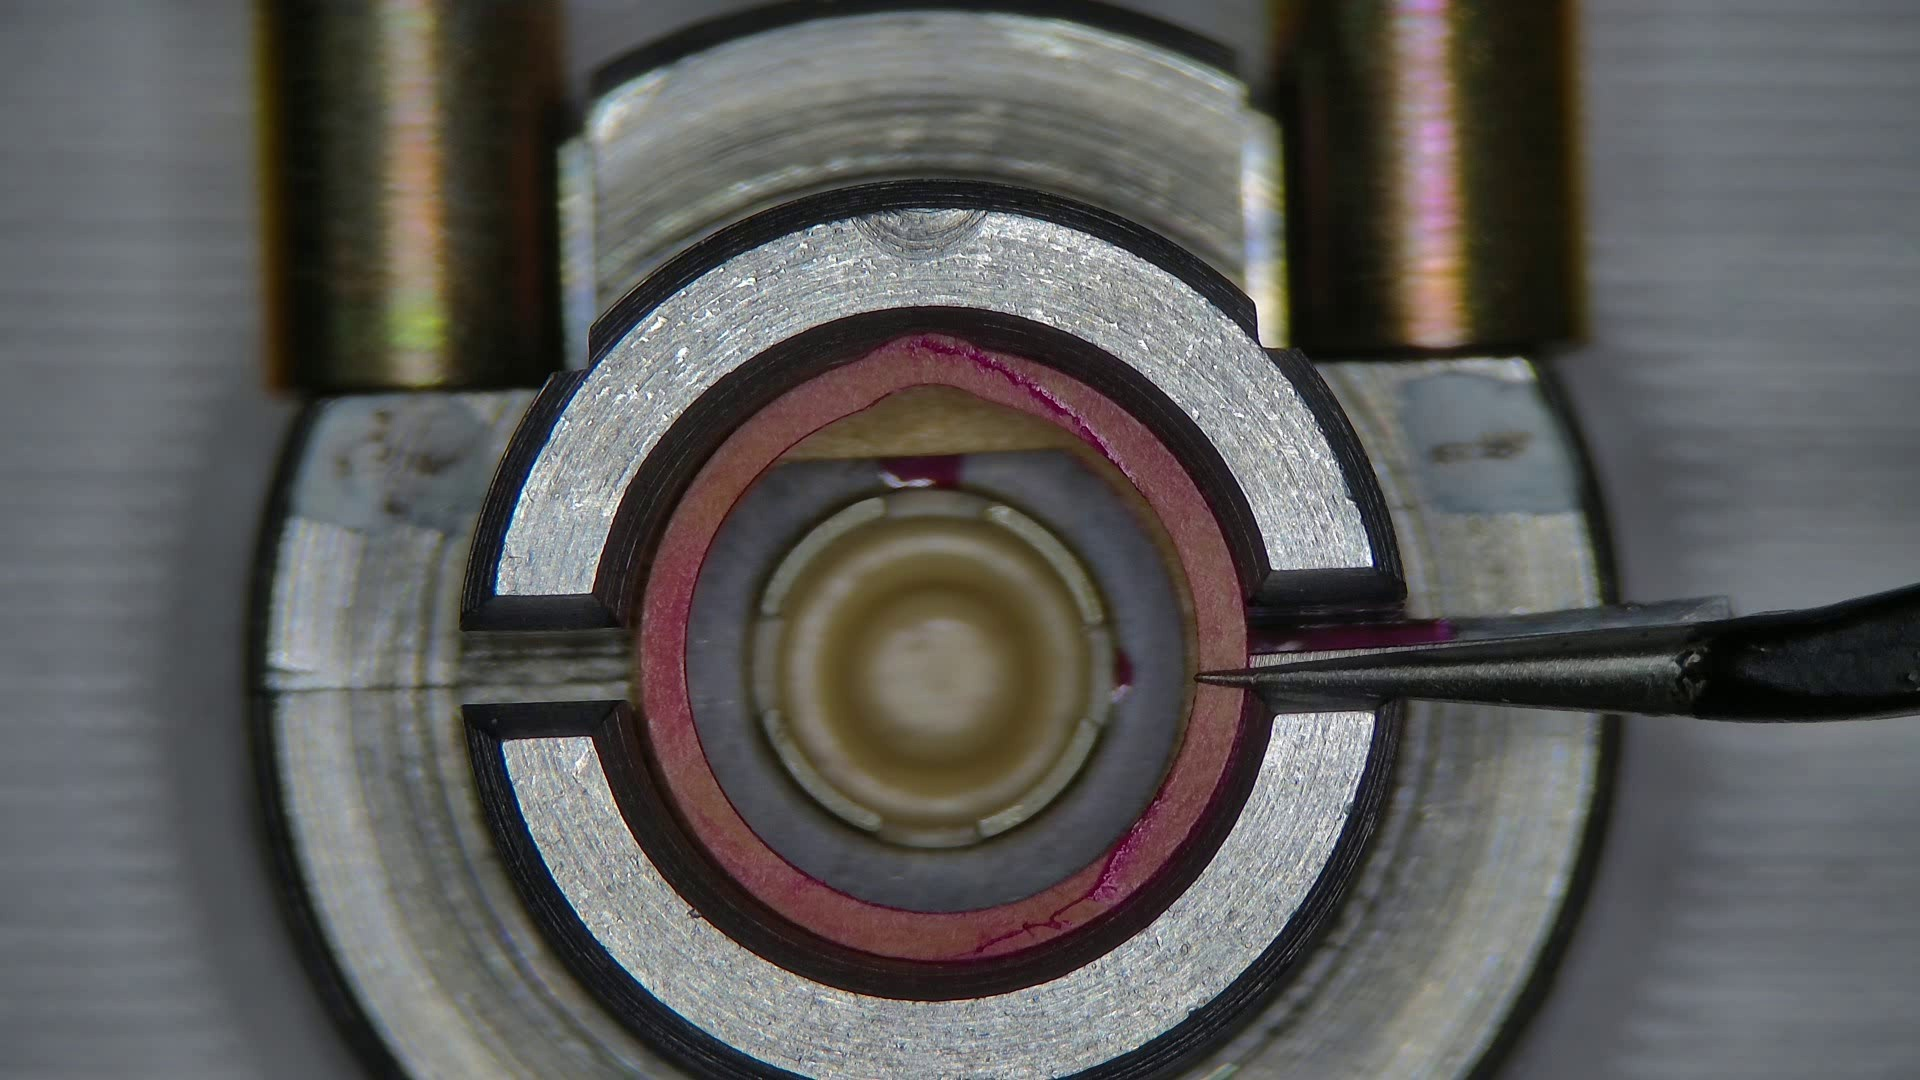GreyOring: (640, 334, 1246, 961)
YellowOring: (687, 455, 1185, 911)
redOring: (785, 385, 1197, 620)
